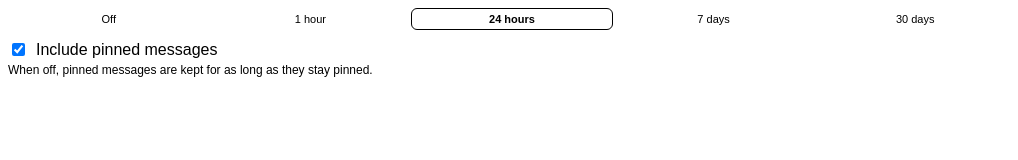
it: staging the switch › stages without sending, and putting it back drops the draft
Click the checkbox labelled "Include pinned messages": coordinates (18, 50) [12,43,25,56]
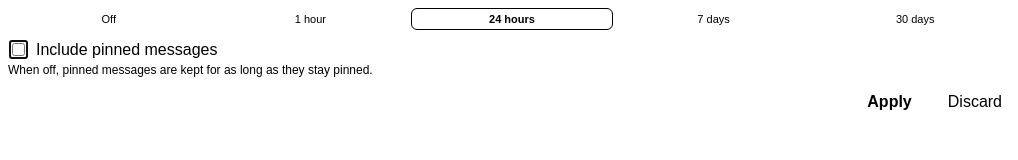
Check: the checkbox labelled "Include pinned messages" is not checked
Check: the button "Apply" is shown, box [853,87,926,117]
Click the checkbox labelled "Include pinned messages": coordinates (18, 50) [12,43,25,56]
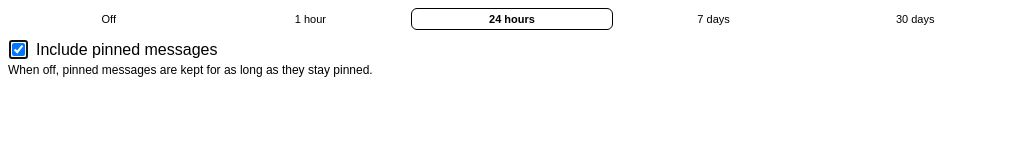
Check: the checkbox labelled "Include pinned messages" is checked, box [12,43,25,56]
Check: the button "Apply" is gone
